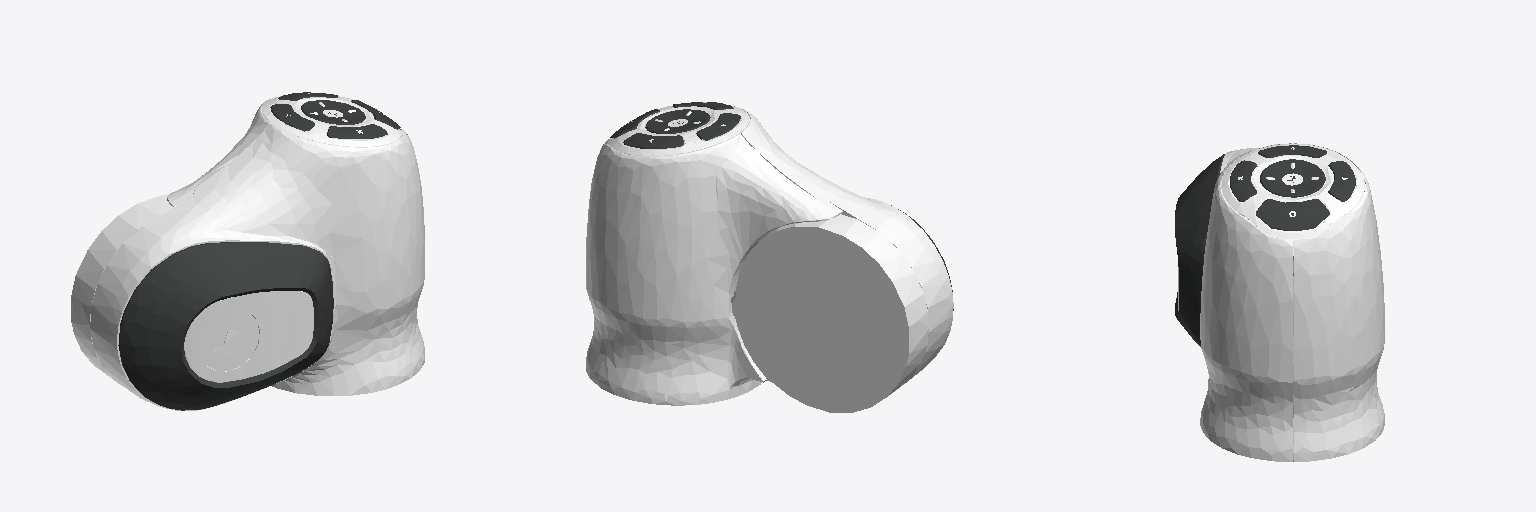
3 renders of one model, left to right at view 1: azimuth 30°, elevation 25°; view 2: azimuth 150°, elevation 25°; view 3: azimuth 270°, elevation 25°, orthographic.
Size of the model in its own units: 0.1802 by 0.1329 by 0.1004.
Materials: 1 (1 with a texture image).